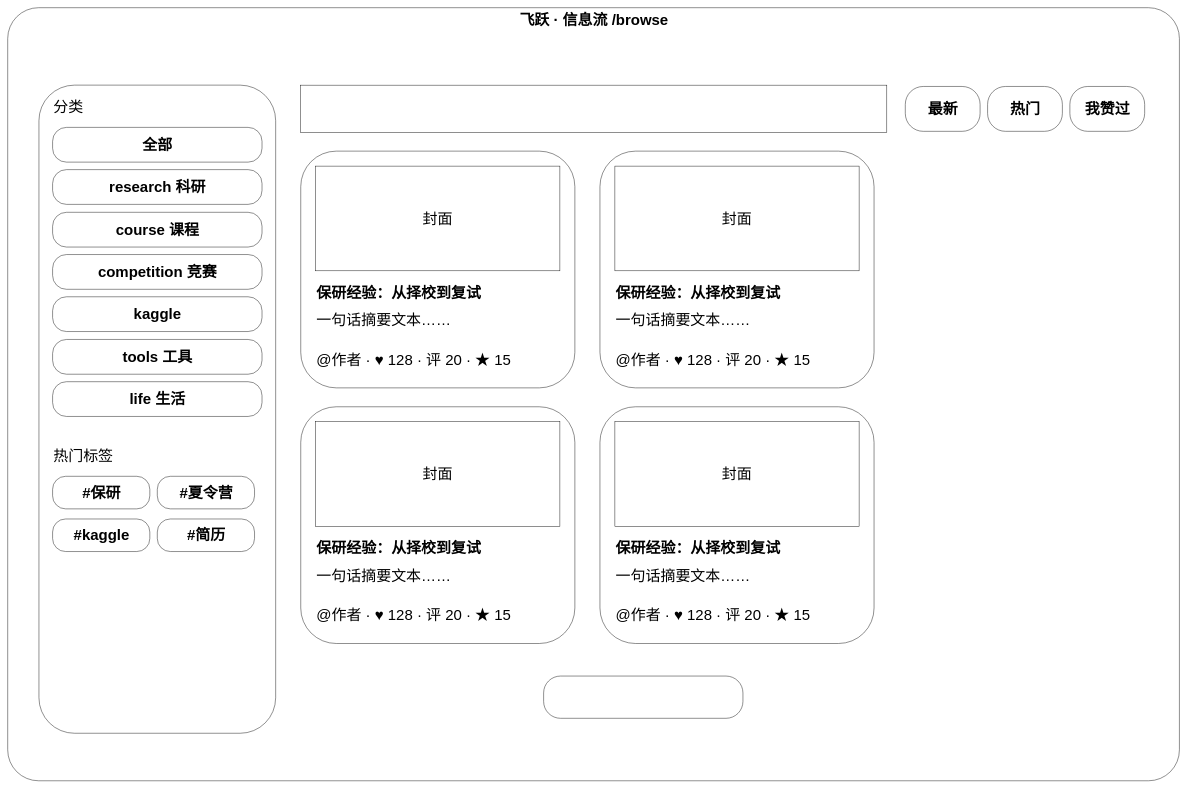
This 1187x788 diagram has some shape labels left out. The centre of each missing label's shape, as x and y in pixels:
加载更多（游标分页）: (x=643, y=697)
搜索标题 / 标签 / 作者: (x=593, y=109)
